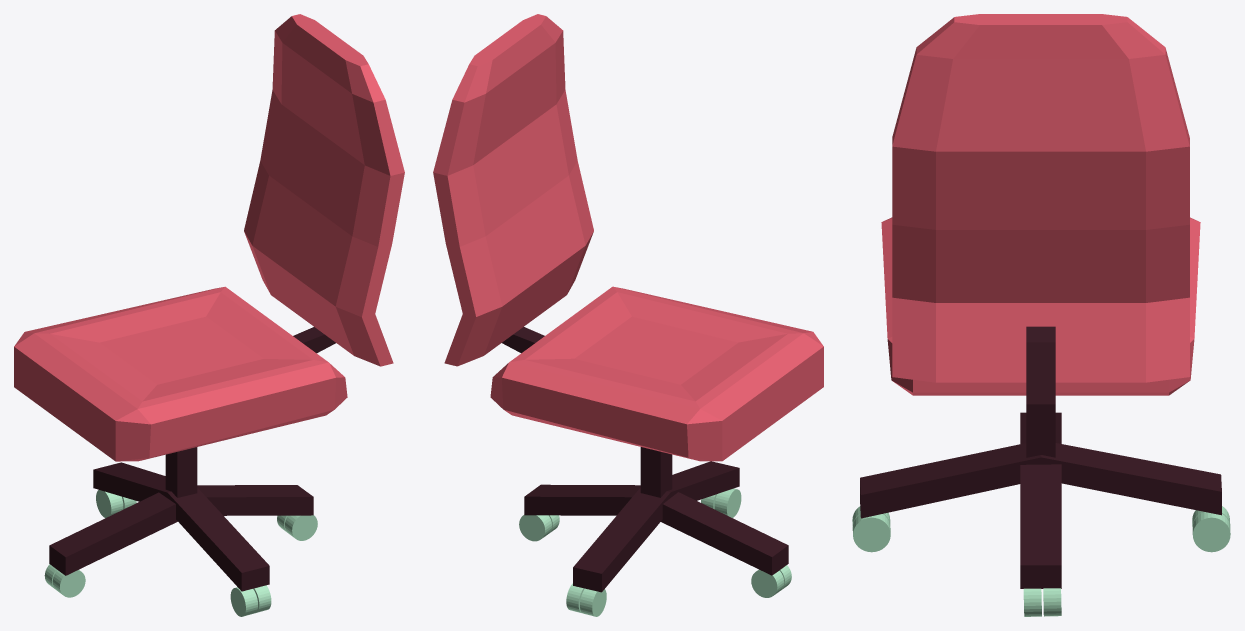
Rendered from desk chair.fbx.
The picture shows the model from 3 angles, left to right: view 1: azimuth 30°, elevation 25°; view 2: azimuth 150°, elevation 25°; view 3: azimuth 270°, elevation 25°; orthographic projection. The views are drawn at different scales.
Parts seen in each view (by area): view 1: seat, fixture, wheels; view 2: seat, fixture, wheels; view 3: seat, fixture, wheels.
Part boxes in pixels (left/top/right/bottom): seat: left=14, top=14, right=404, bottom=461; fixture: left=49, top=327, right=335, bottom=591; wheels: left=44, top=490, right=317, bottom=616; seat: left=433, top=14, right=823, bottom=461; fixture: left=502, top=327, right=788, bottom=592; wheels: left=519, top=488, right=791, bottom=616; seat: left=881, top=14, right=1200, bottom=395; fixture: left=860, top=326, right=1221, bottom=588; wheels: left=852, top=506, right=1230, bottom=616.
Size of the model in its own units: 248 by 377 by 210.
